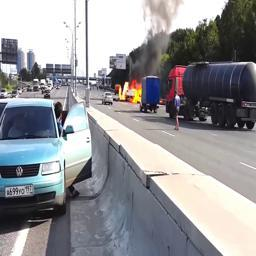fire: (115, 80, 143, 104)
